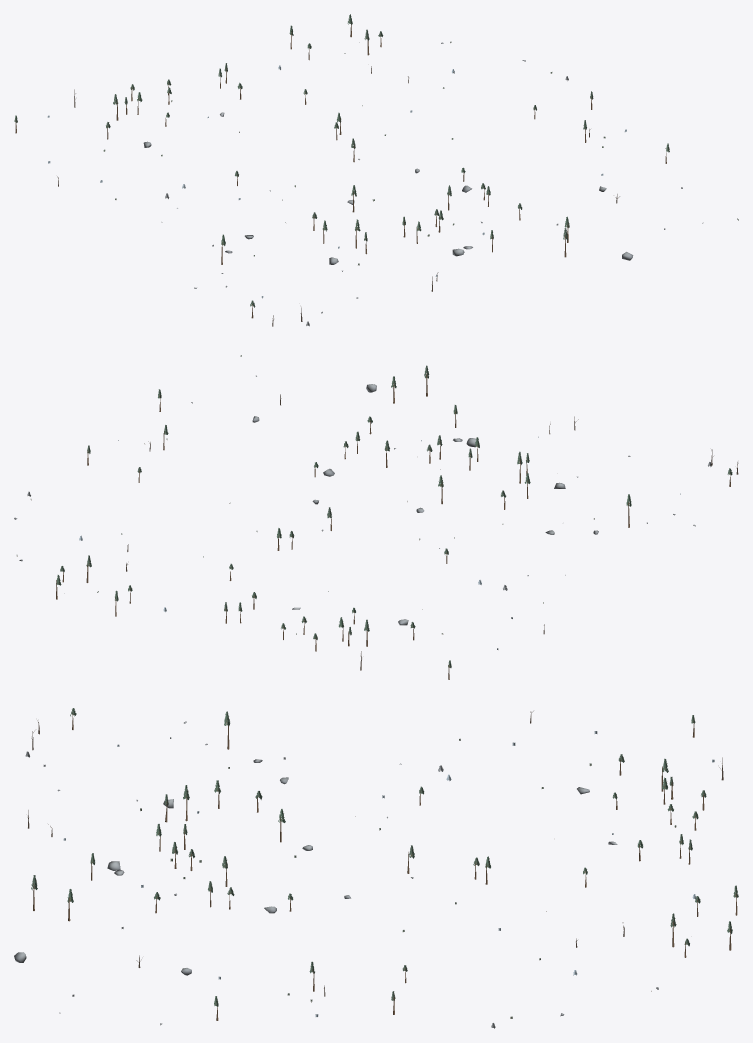
The model's file is frost_land_scatter_c14_10_lod1.glb.
The picture shows the model from 3 angles, top to bottom: view 1: azimuth 30°, elevation 25°; view 2: azimuth 150°, elevation 25°; view 3: azimuth 270°, elevation 25°; orthographic projection. The views are drawn at different scales.
Visible parts, largest first — view 1: frost_land_scatter_c14_10_lod1; view 2: frost_land_scatter_c14_10_lod1; view 3: frost_land_scatter_c14_10_lod1.
Part boxes in pixels (x1,y1,x2,y2): frost_land_scatter_c14_10_lod1: (14, 14, 738, 326); frost_land_scatter_c14_10_lod1: (14, 355, 738, 679); frost_land_scatter_c14_10_lod1: (14, 708, 738, 1028).
Size of the model in its own units: 255 by 21.4 by 257.
